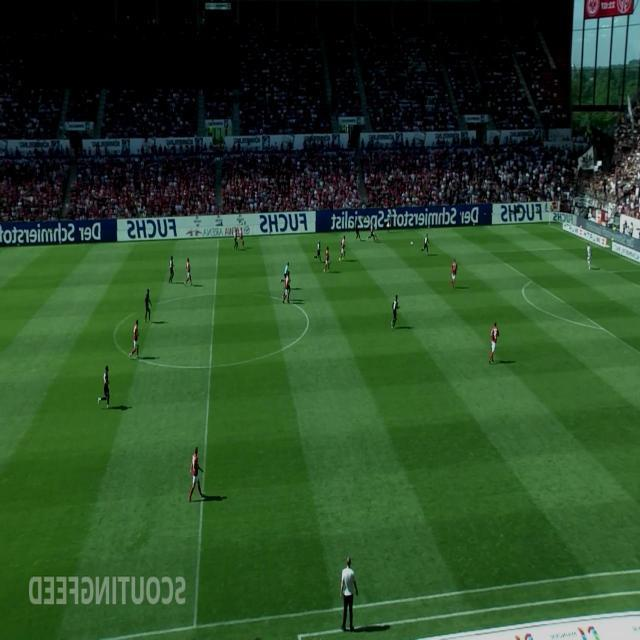Ball: (411, 240, 414, 247)
Corner: (546, 199, 552, 225)
GoalKeeper: (586, 242, 592, 270)
Referee: (280, 262, 290, 288), (386, 210, 392, 233)
TEAM 1: (188, 446, 204, 502), (488, 321, 499, 364), (130, 318, 140, 359), (282, 270, 291, 304), (450, 258, 458, 288), (184, 258, 192, 286), (338, 235, 346, 261), (323, 245, 330, 272), (238, 226, 244, 248)
TEAM 2: (98, 366, 110, 408), (391, 294, 400, 329), (144, 288, 153, 322), (367, 222, 378, 242), (313, 239, 321, 263), (421, 233, 429, 254), (168, 256, 174, 284), (354, 223, 362, 241), (234, 230, 238, 250)
